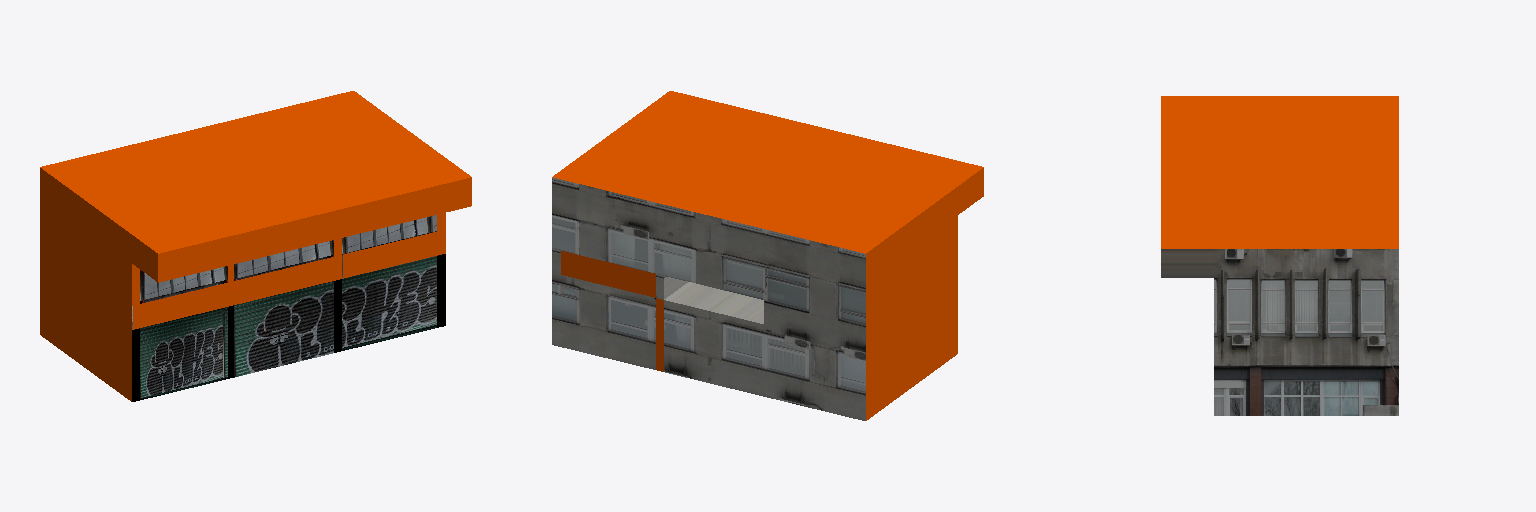
3 renders of one model, left to right at view 1: azimuth 30°, elevation 25°; view 2: azimuth 150°, elevation 25°; view 3: azimuth 270°, elevation 25°, orthographic.
Parts seen in each view (by area): view 1: polySurface656 buildings:polySurface655; view 2: polySurface656 buildings:polySurface655; view 3: polySurface656 buildings:polySurface655.
Boxes of the visible parts, <box> form: polySurface656 buildings:polySurface655: <box>40,91,471,401</box>; polySurface656 buildings:polySurface655: <box>552,91,983,420</box>; polySurface656 buildings:polySurface655: <box>1161,96,1398,415</box>.
Size of the model in its own units: 49.8 by 25.4 by 32.55.
5 materials, 4 textured.